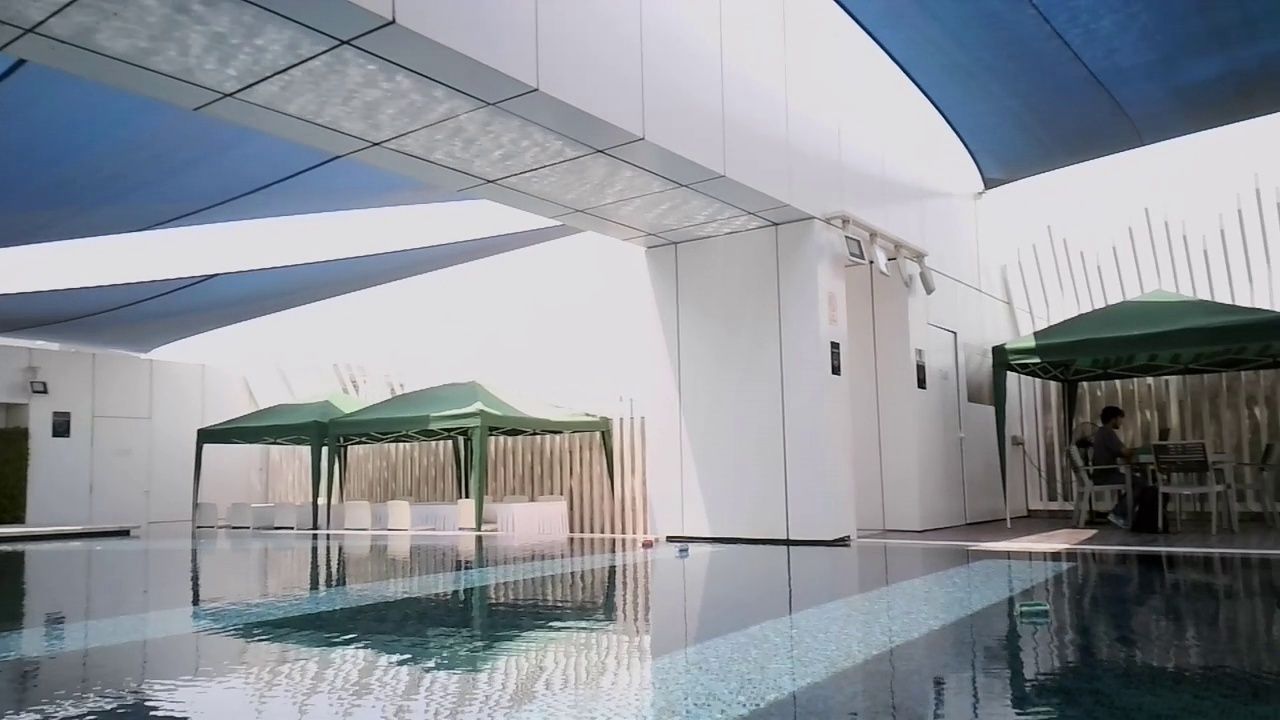debris: (1013, 597, 1055, 630), (673, 540, 692, 557), (638, 537, 656, 551)
